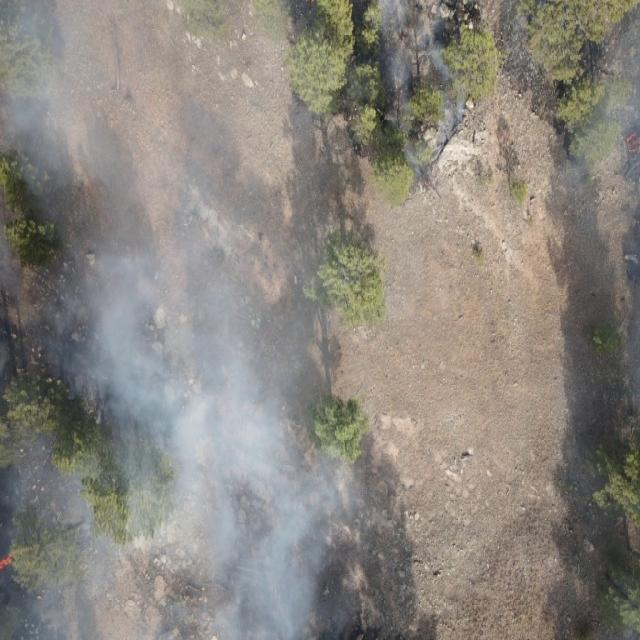fire: (626, 130, 640, 154), (0, 553, 15, 573)
smoke: (0, 0, 365, 640), (596, 22, 640, 407), (378, 0, 469, 169), (553, 91, 596, 233)
